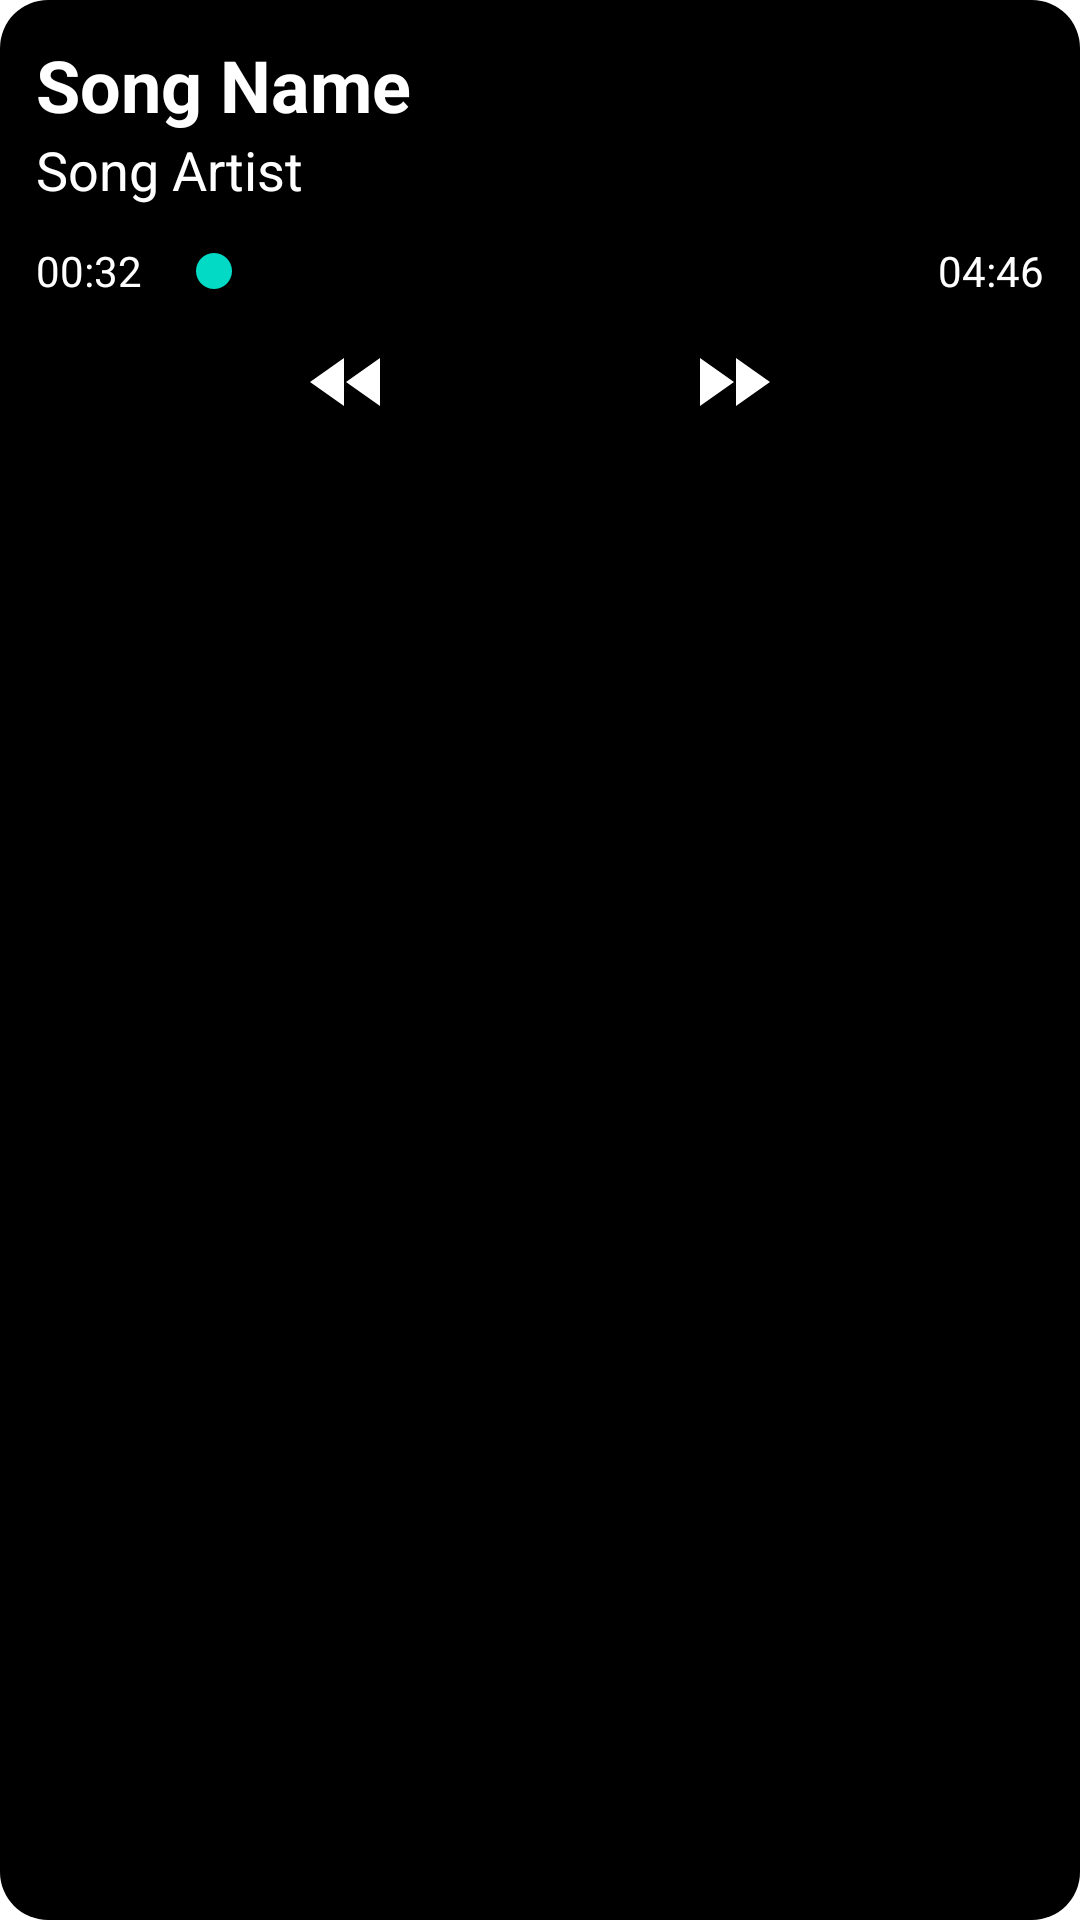

Named icons in this screenshot (1080×1920) and their centers, [x,y]:
fast forward: [735,382]
rewind: [345,382]
